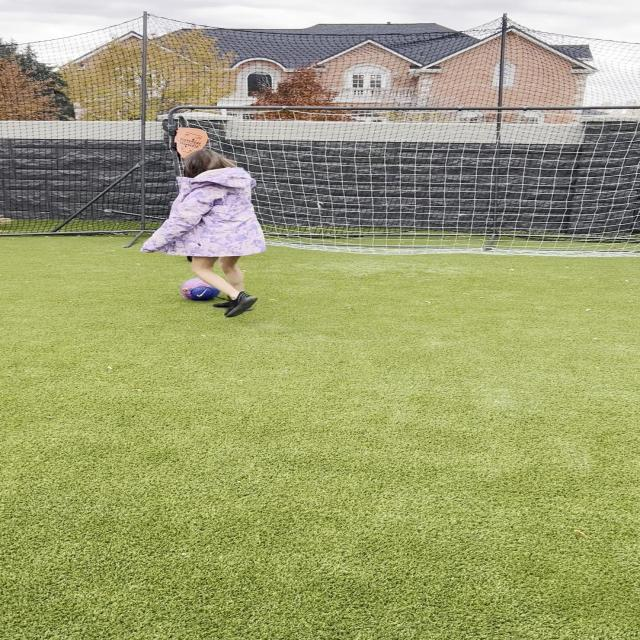Soccer Ball: (181, 277, 223, 301)
